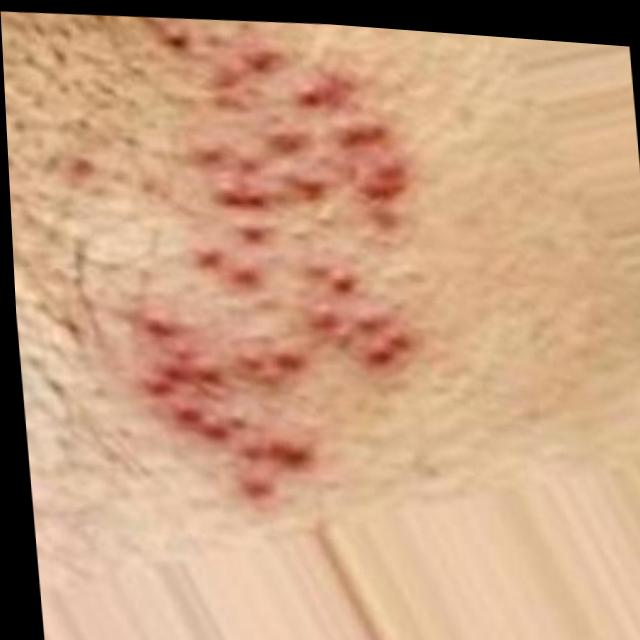Shingles: (117, 25, 424, 503)
